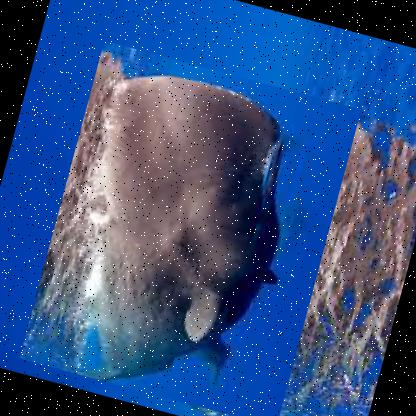sperm_whale: (17, 39, 361, 415)
